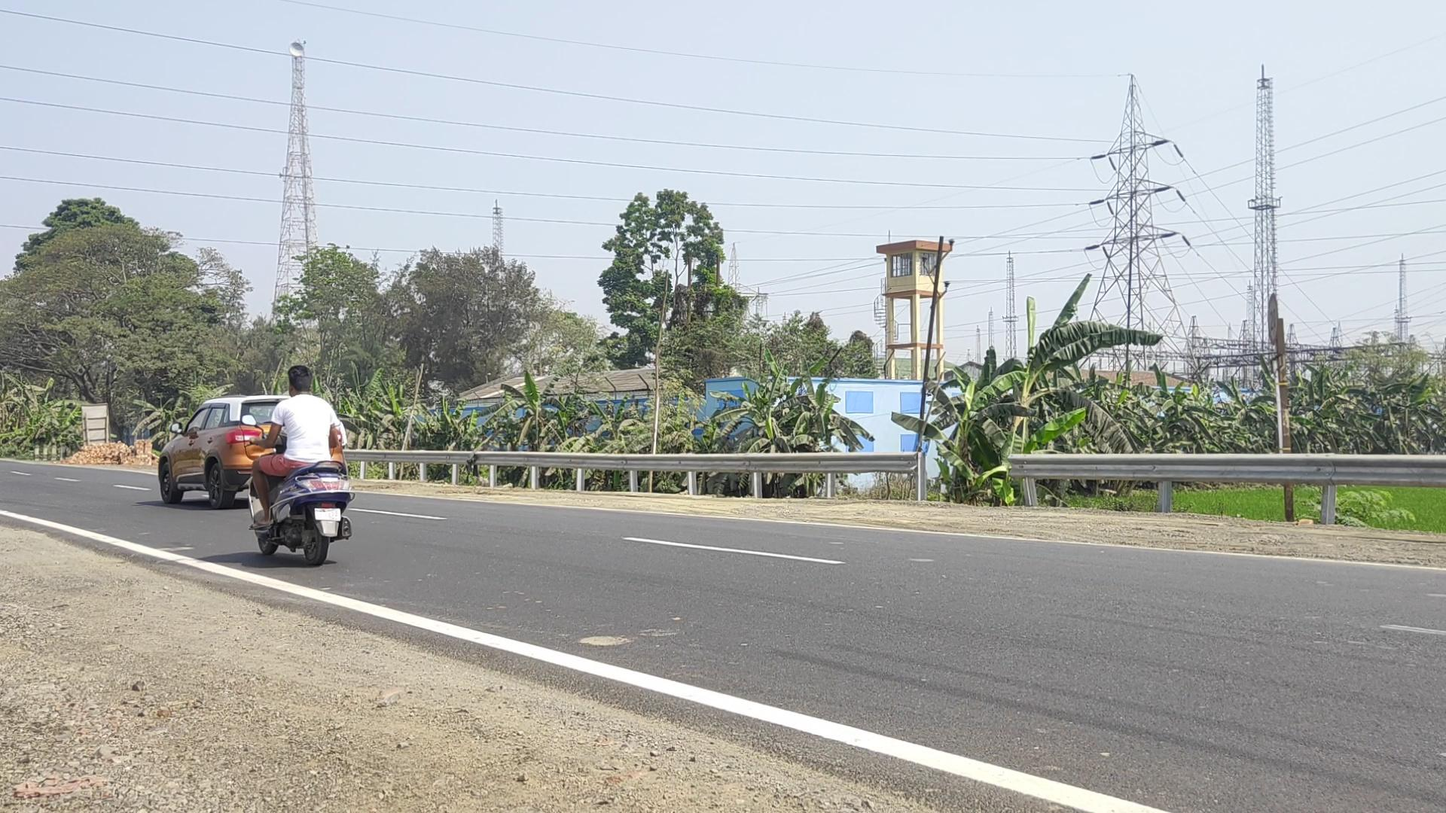bike: (240, 365, 353, 567)
car: (157, 394, 347, 510)
